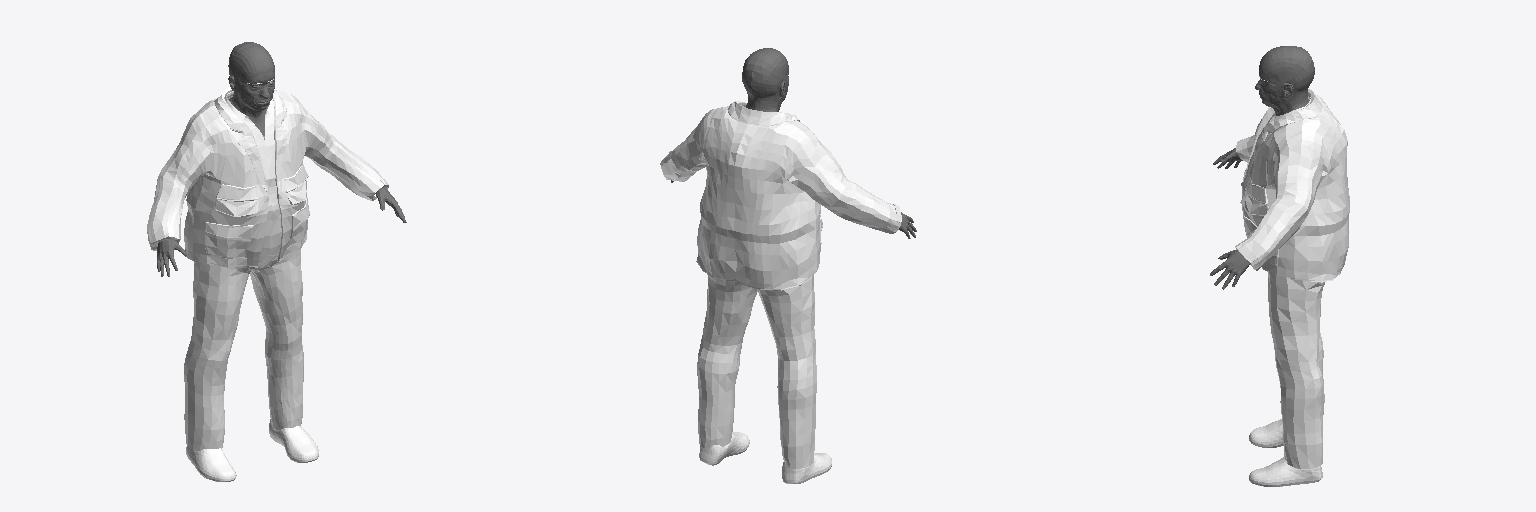
File: anziano.obj
3 renders of one model, left to right at view 1: azimuth 30°, elevation 25°; view 2: azimuth 150°, elevation 25°; view 3: azimuth 270°, elevation 25°, orthographic.
Visible parts, largest first — view 1: male_casualsuit05.obj, base.obj, shoes02.obj; view 2: male_casualsuit05.obj, base.obj, shoes02.obj; view 3: male_casualsuit05.obj, base.obj, shoes02.obj.
Part boxes in pixels (left/top/right/bottom): male_casualsuit05.obj: left=147, top=87, right=388, bottom=450; base.obj: left=157, top=42, right=406, bottom=276; shoes02.obj: left=186, top=419, right=318, bottom=481; male_casualsuit05.obj: left=660, top=101, right=901, bottom=468; base.obj: left=671, top=48, right=916, bottom=238; shoes02.obj: left=699, top=432, right=831, bottom=483; male_casualsuit05.obj: left=1235, top=89, right=1349, bottom=468; base.obj: left=1210, top=46, right=1314, bottom=289; shoes02.obj: left=1249, top=419, right=1322, bottom=486.
Bounding box in the file's own units: 9.9 × 16.18 × 4.97.